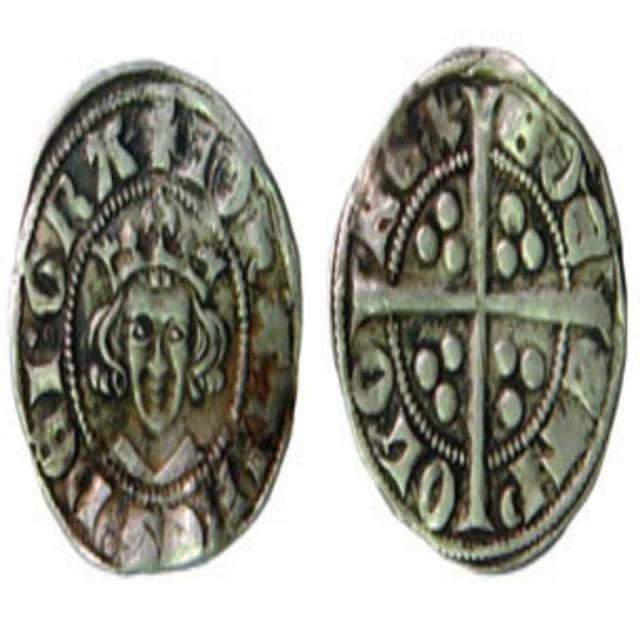Coin: (326, 40, 629, 571), (4, 58, 301, 578)
